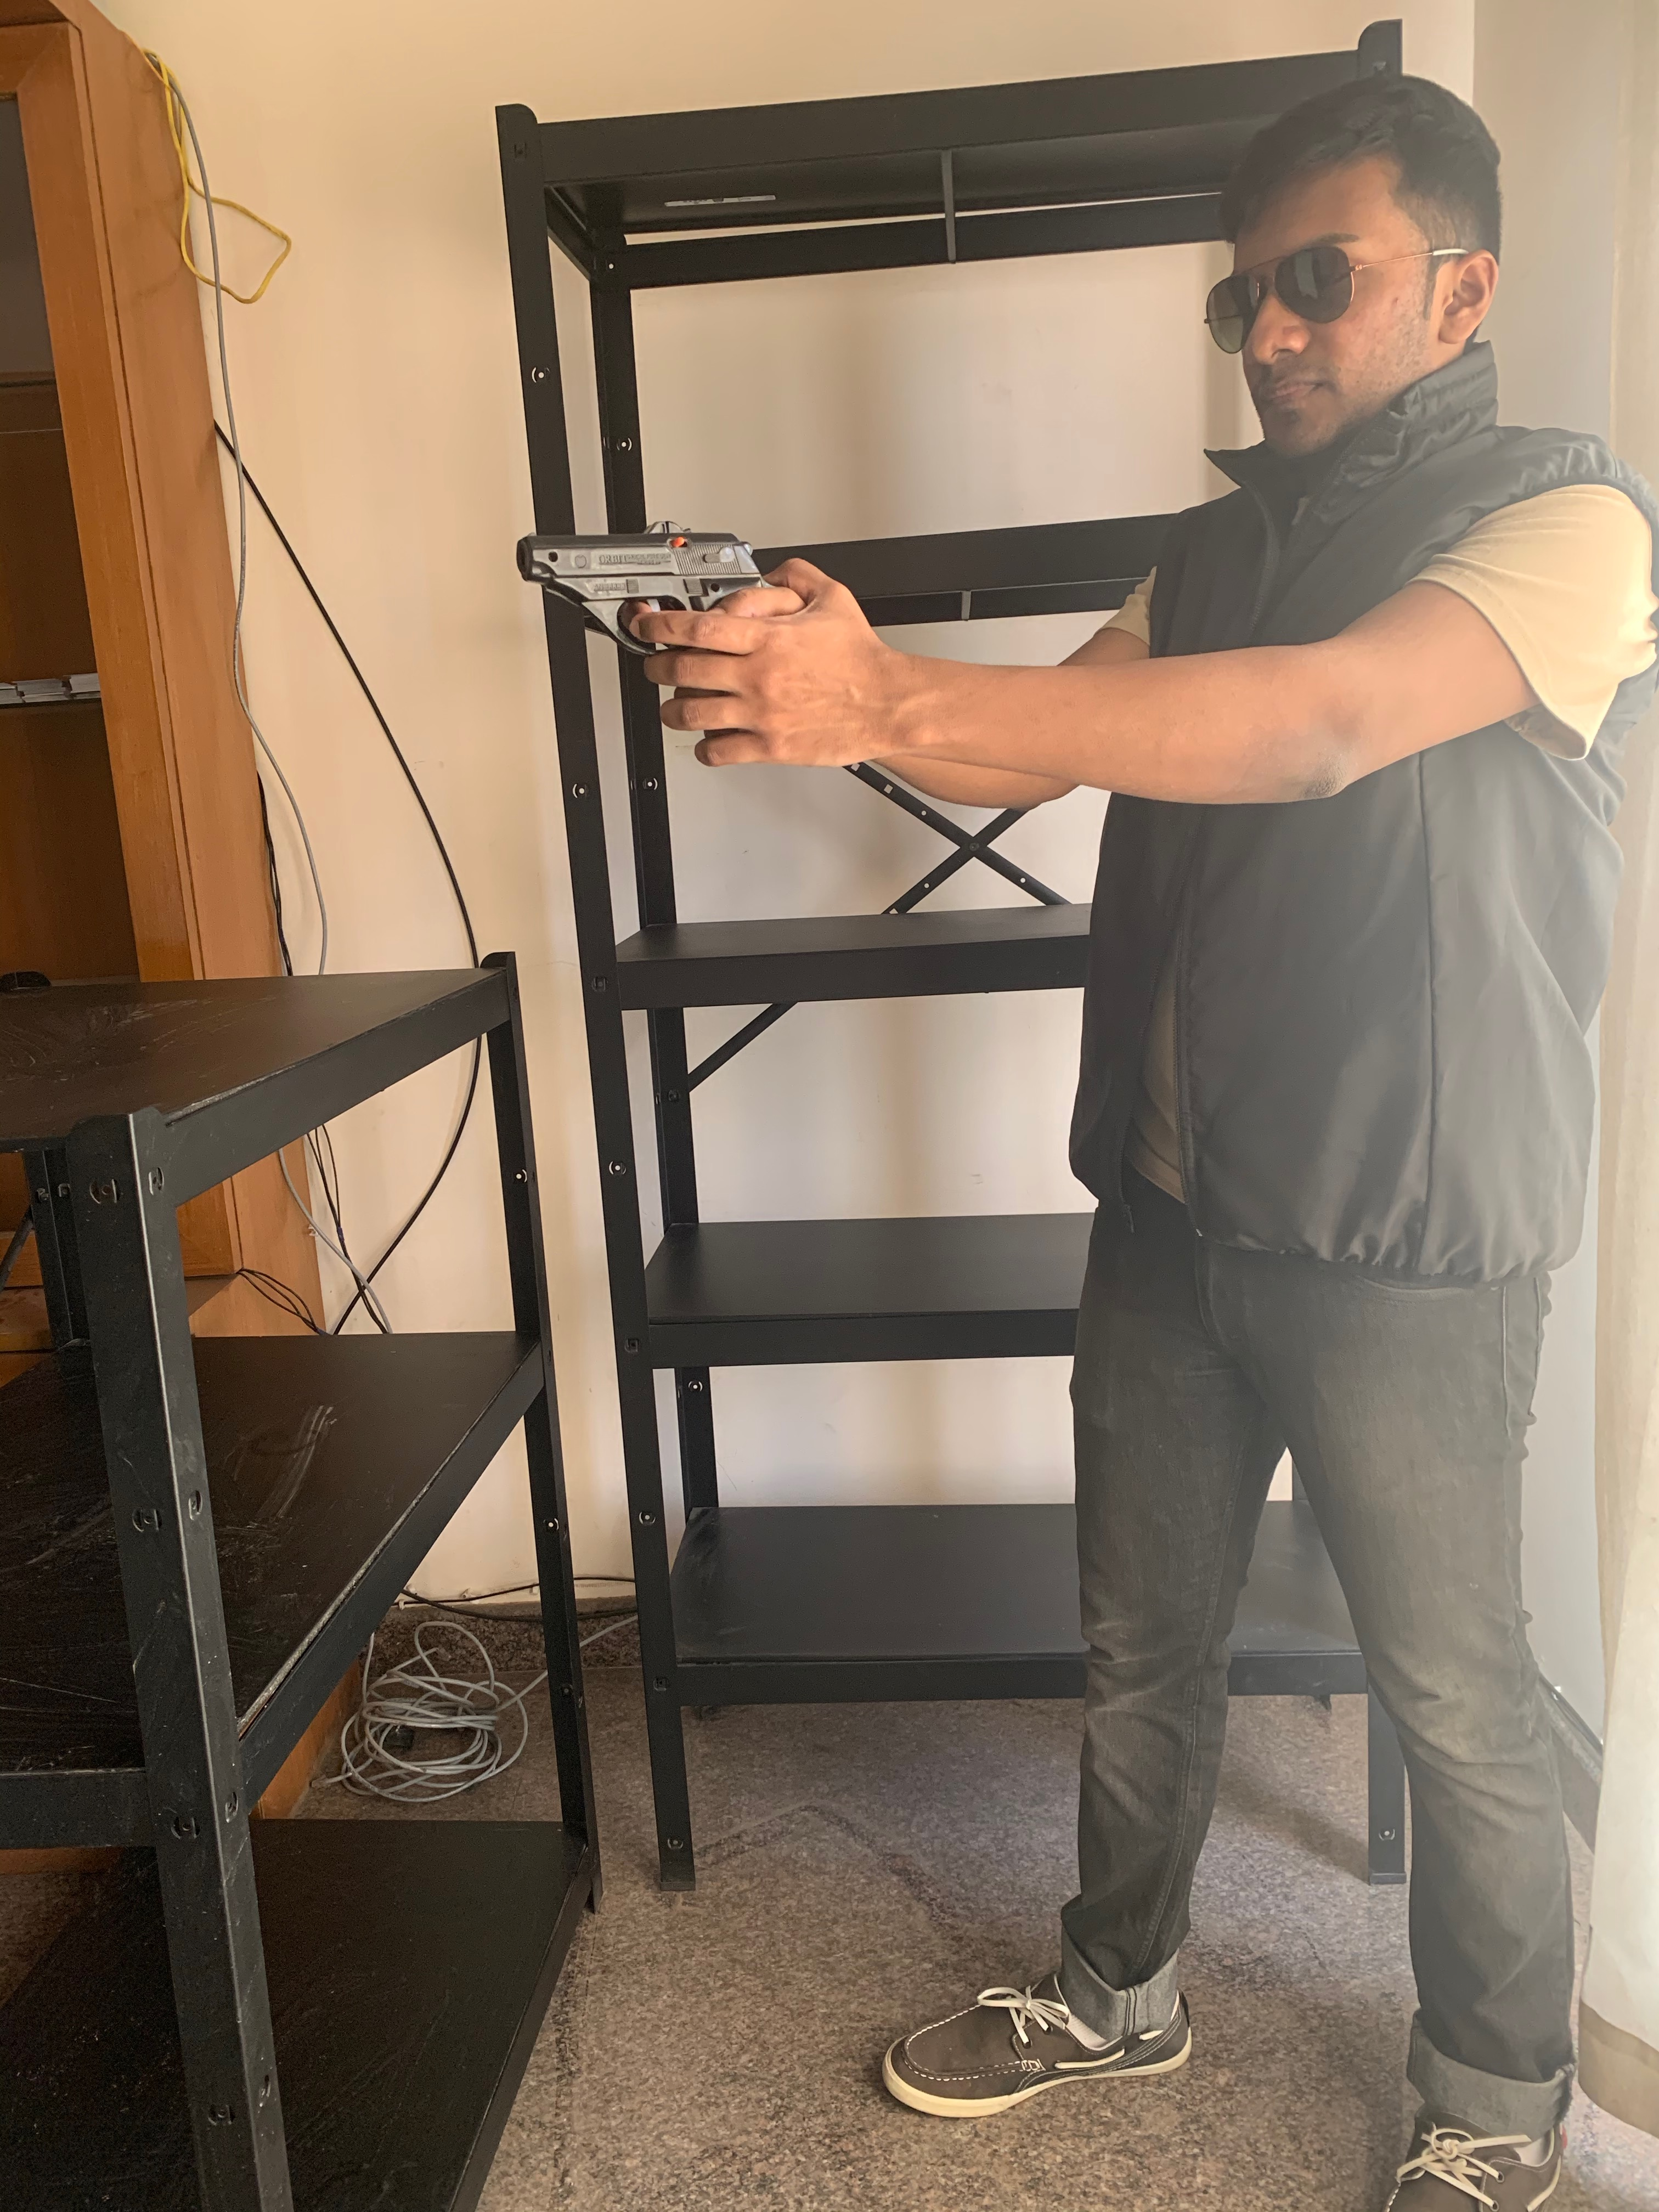gun: (512, 519, 777, 681)
